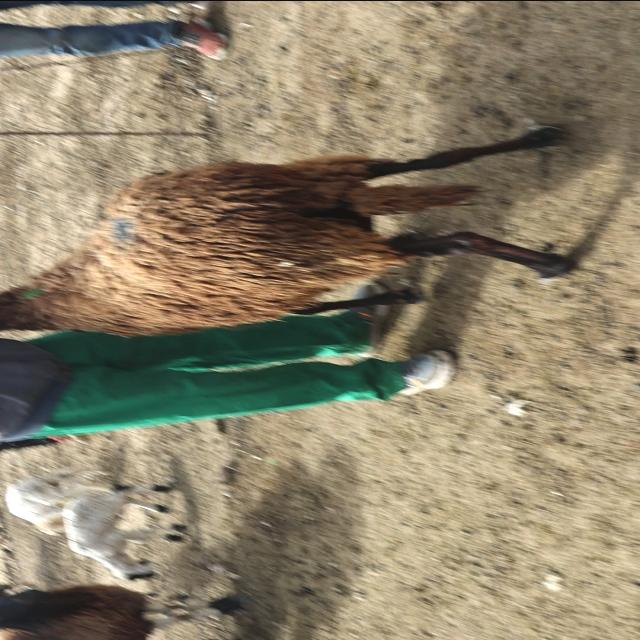Score_1: (0, 125, 572, 335)
